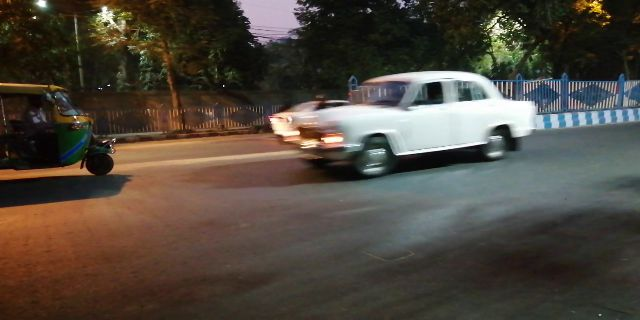Autorickshaw: (7, 79, 116, 179)
Car: (297, 70, 538, 174)
